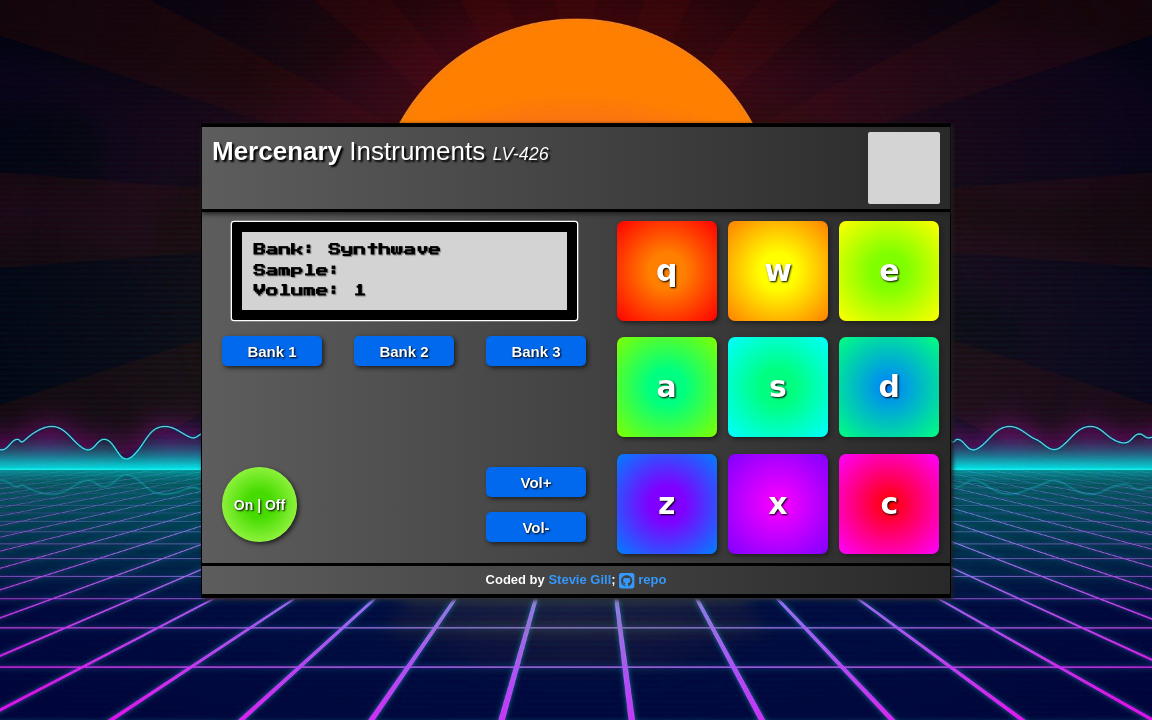
display › should update when one of the bank buttons is clicked
Expected: the element with test id "display" shows "Synthwave", [328,243,441,256]
Click the button "Bank 2".
click(404, 351)  # box [354,336,454,366]
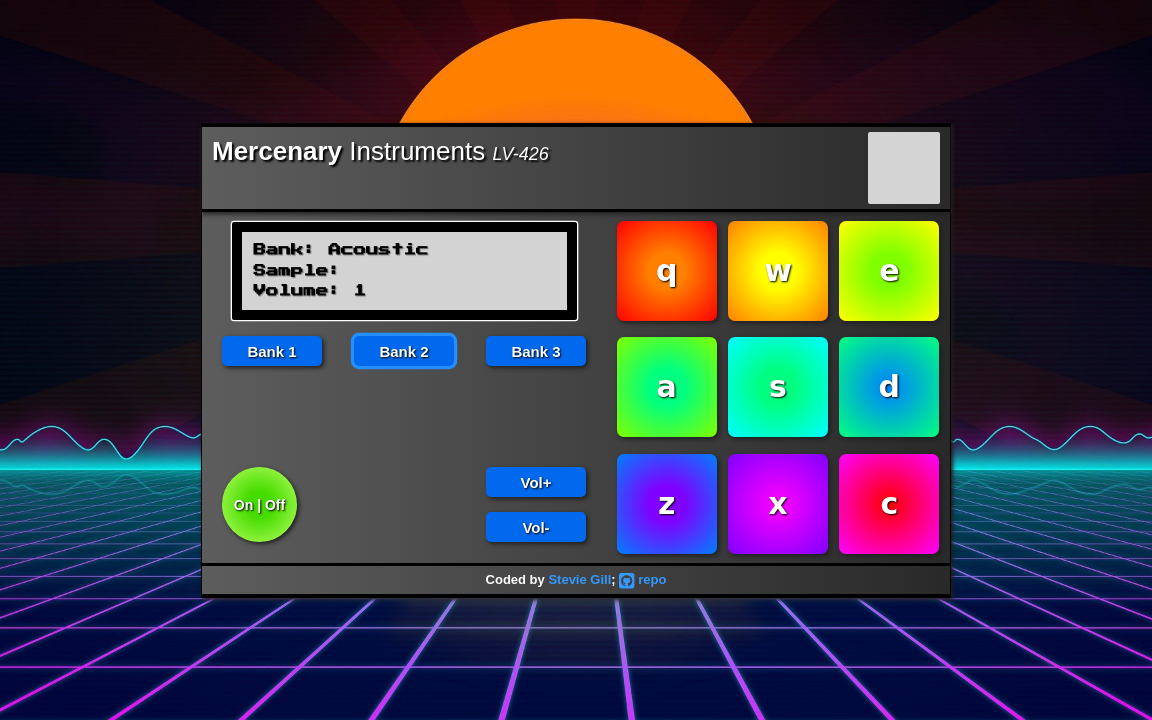
Now the element with test id "display" shows "Acoustic", box [328,243,428,256]
Click the button "Bank 3".
click(536, 351)  # box [486,336,586,366]
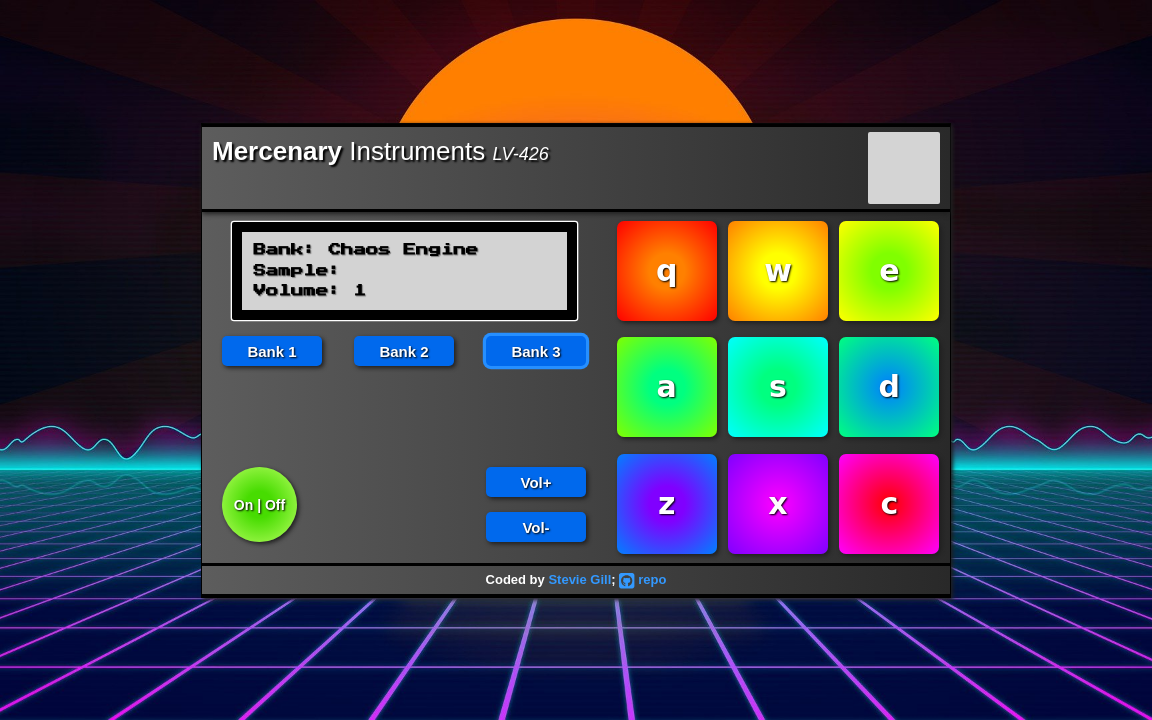
Now the element with test id "display" shows "Chaos Engine", box [328,243,478,256]
Click the button "Bank 1".
click(272, 351)  # box [222,336,322,366]
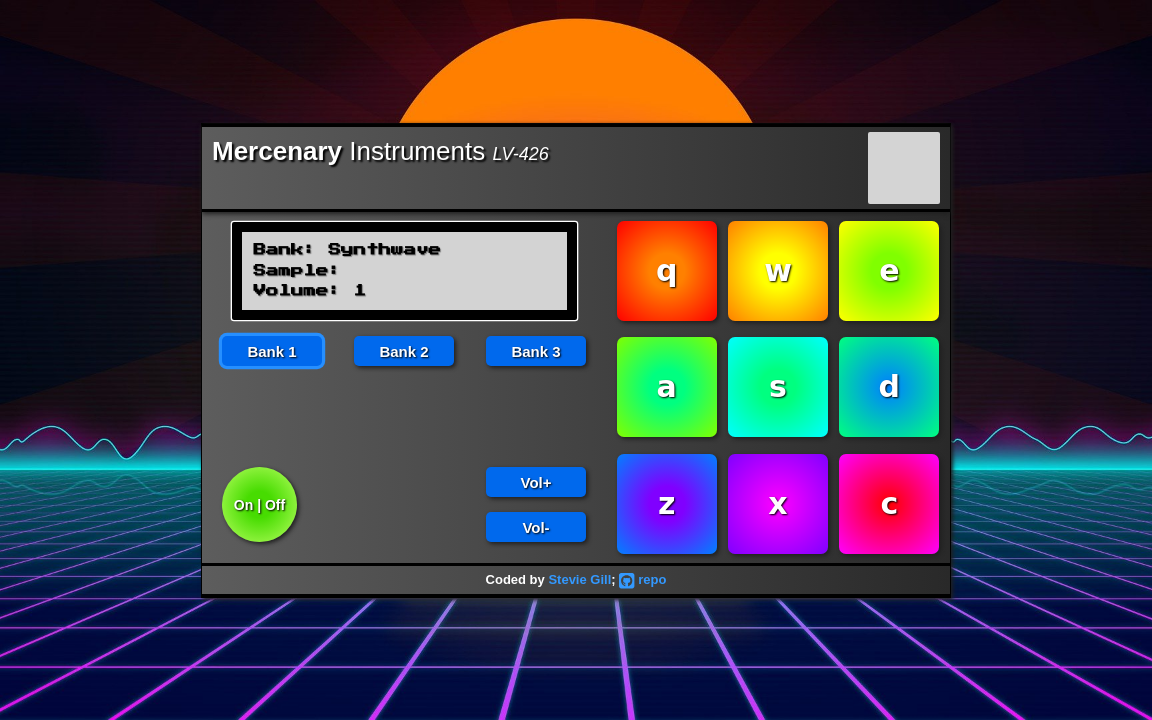
Now the element with test id "display" shows "Synthwave", box [328,243,441,256]
